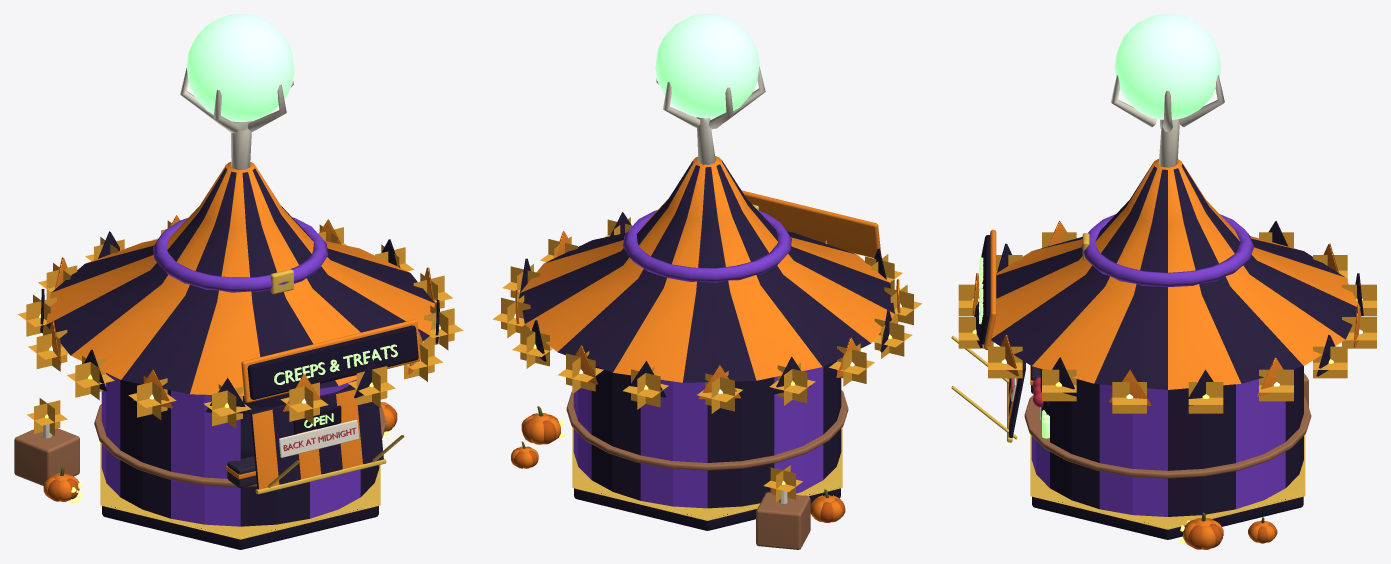
The model's file is fright_station.glb.
3 renders of one model, left to right at view 1: azimuth 30°, elevation 25°; view 2: azimuth 150°, elevation 25°; view 3: azimuth 270°, elevation 25°, orthographic. The views are drawn at different scales.
Visible parts, largest first — view 1: Station, Shutter, ClosedSign, OpenDressing; view 2: Station; view 3: Station, Shutter.
Boxes of the visible parts, x1=… form: Station: x1=14, y1=14, x2=462, y2=549; Shutter: x1=250, y1=388, x2=386, y2=494; ClosedSign: x1=279, y1=420, x2=359, y2=457; OpenDressing: x1=268, y1=405, x2=404, y2=487; Station: x1=492, y1=14, x2=922, y2=549; Station: x1=958, y1=14, x2=1376, y2=549; Shutter: x1=1007, y1=361, x2=1025, y2=442.
Bounding box in the file's own units: 7.06 × 8.5 × 7.19.
